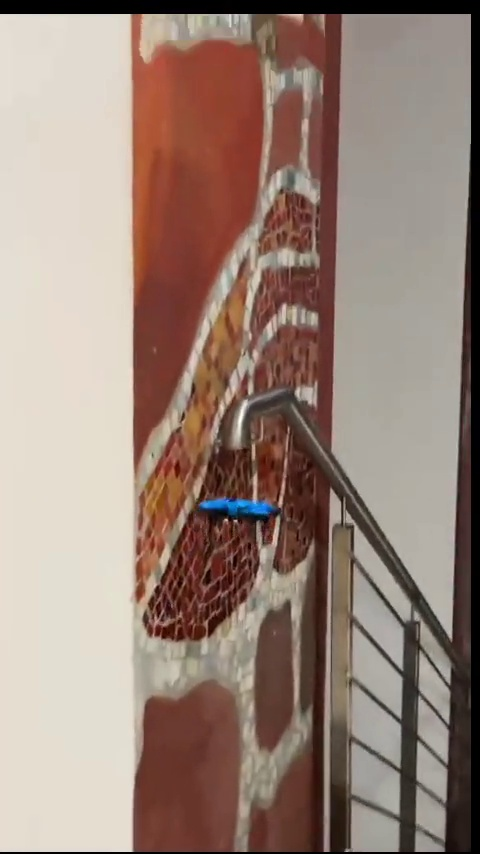drone: (197, 494, 279, 523)
